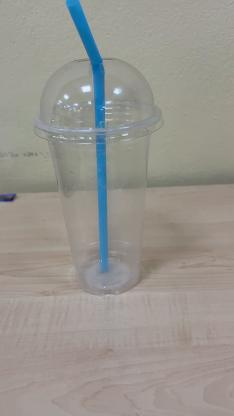Plastic Cup: (38, 56, 166, 294)
